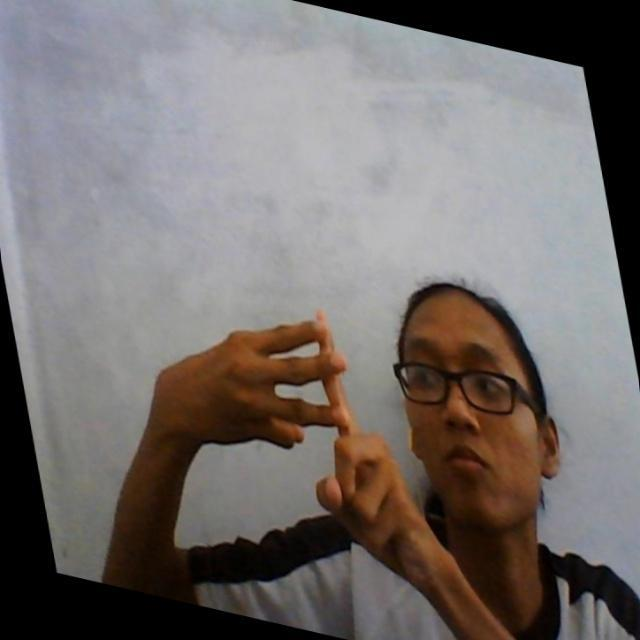B: (206, 304, 394, 524)
